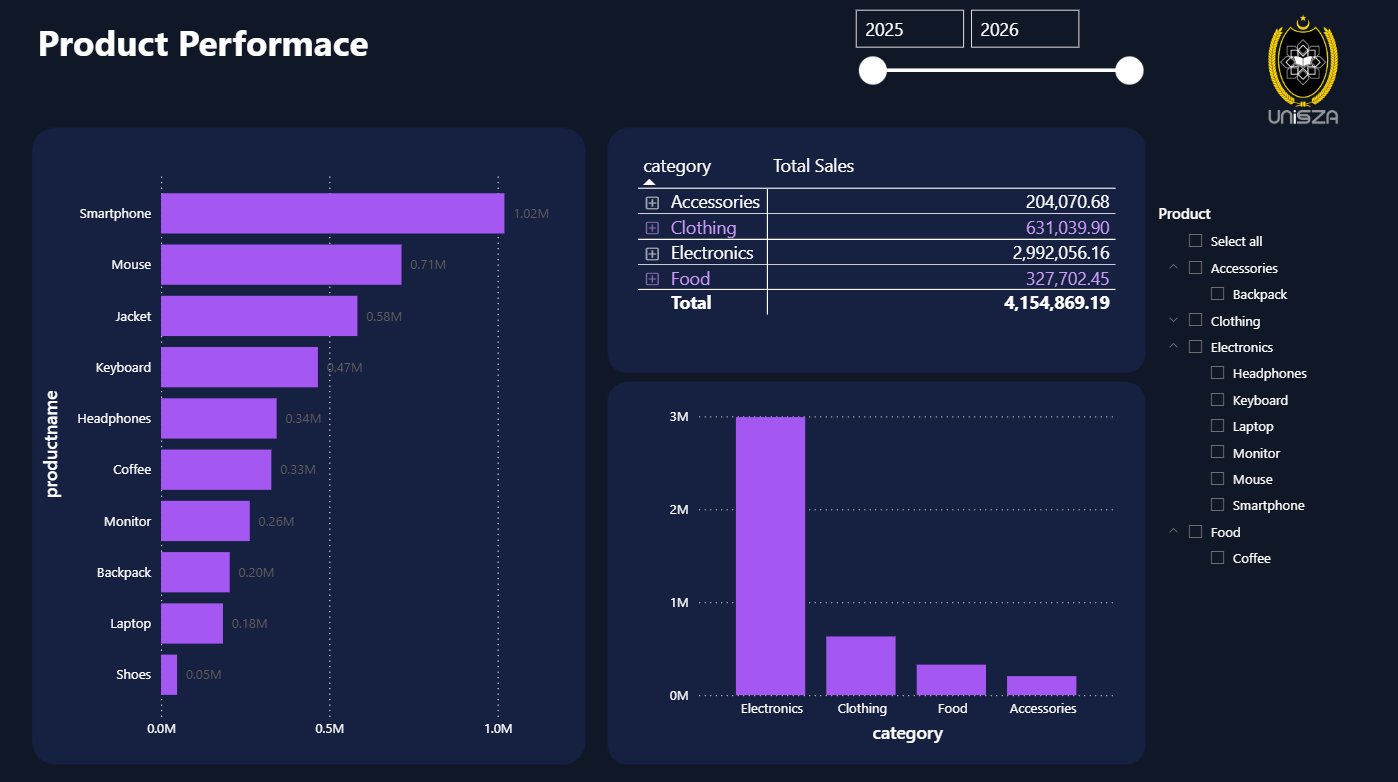

Layout of this report page (visuals, bound fields, positions):
{"tool":"powerbi","page":{"name":"Product Performance","canvas":[1280,720],"ordinal":1},"visuals":[{"type":"barChart","fields":{"Category":["dim_product.productname"],"Y":["fact_sales.Total Sales"]},"box":[30,140,558.6,550],"z":0},{"type":"columnChart","fields":{"Category":["dim_product.category"],"Y":["fact_sales.Total Sales"]},"box":[598.6,360,430,330],"z":1000},{"type":"pivotTable","fields":{"Rows":["dim_product.category","dim_time.saledate.Variation.Date Hierarchy.Year"],"Values":["fact_sales.Total Sales"]},"box":[598.6,140,430,195.7],"z":2000},{"type":"slicer","fields":{"Values":["dim_product.category","dim_product.productname"]},"box":[1045.7,187.1,210,408.6],"z":3000},{"type":"textbox","box":[31.4,14.3,351.4,58.6],"z":4002},{"type":"slicer","fields":{"Values":["dim_time.saledate.Variation.Date Hierarchy.Year"]},"box":[772.9,7.1,272.9,94.3],"z":4003}]}

Visuals, with their boxes in screenshot pixels (x1, y1, x2, y2), scaled from the page's 1280x720 canvas onto the 1398x782 screenshot:
barChart - dim_product.productname x fact_sales.Total Sales: left=33, top=152, right=643, bottom=749
columnChart - dim_product.category x fact_sales.Total Sales: left=654, top=391, right=1123, bottom=749
pivotTable - dim_product.category x dim_time.saledate.Variation.Date Hierarchy.Year: left=654, top=152, right=1123, bottom=365
slicer - dim_product.category x dim_product.productname: left=1142, top=203, right=1371, bottom=647
textbox: left=34, top=16, right=418, bottom=79
slicer - dim_time.saledate.Variation.Date Hierarchy.Year: left=844, top=8, right=1142, bottom=110
